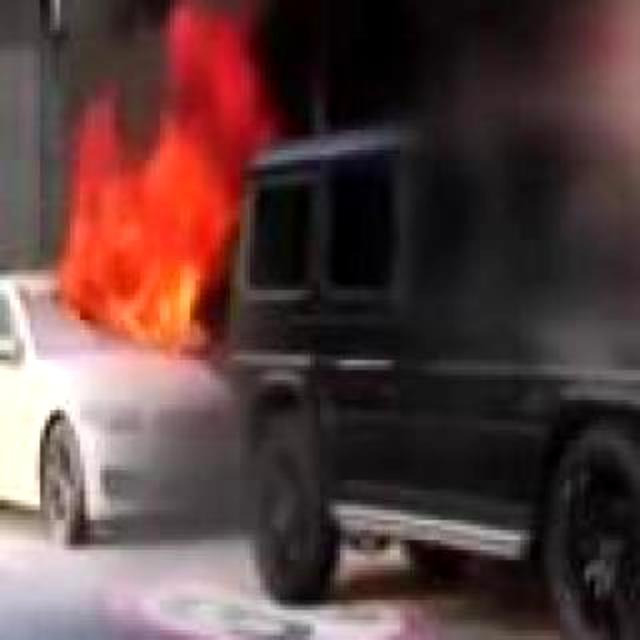fire: (58, 95, 245, 350), (168, 0, 275, 166)
smoke: (204, 0, 422, 131), (65, 0, 172, 144)
